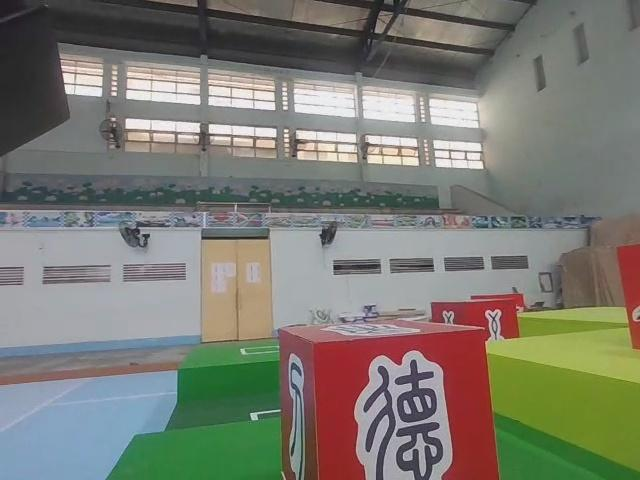R2 Fake: (271, 315, 493, 480)
